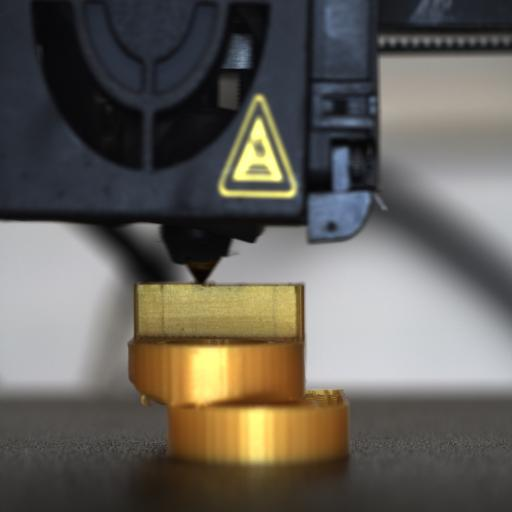layer_shift: (129, 379, 353, 415)
